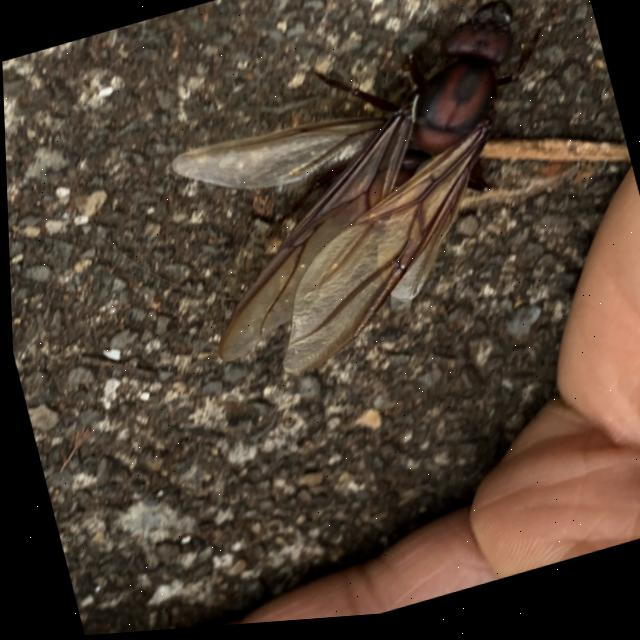Alive-Female-Alate: (150, 0, 629, 401)
